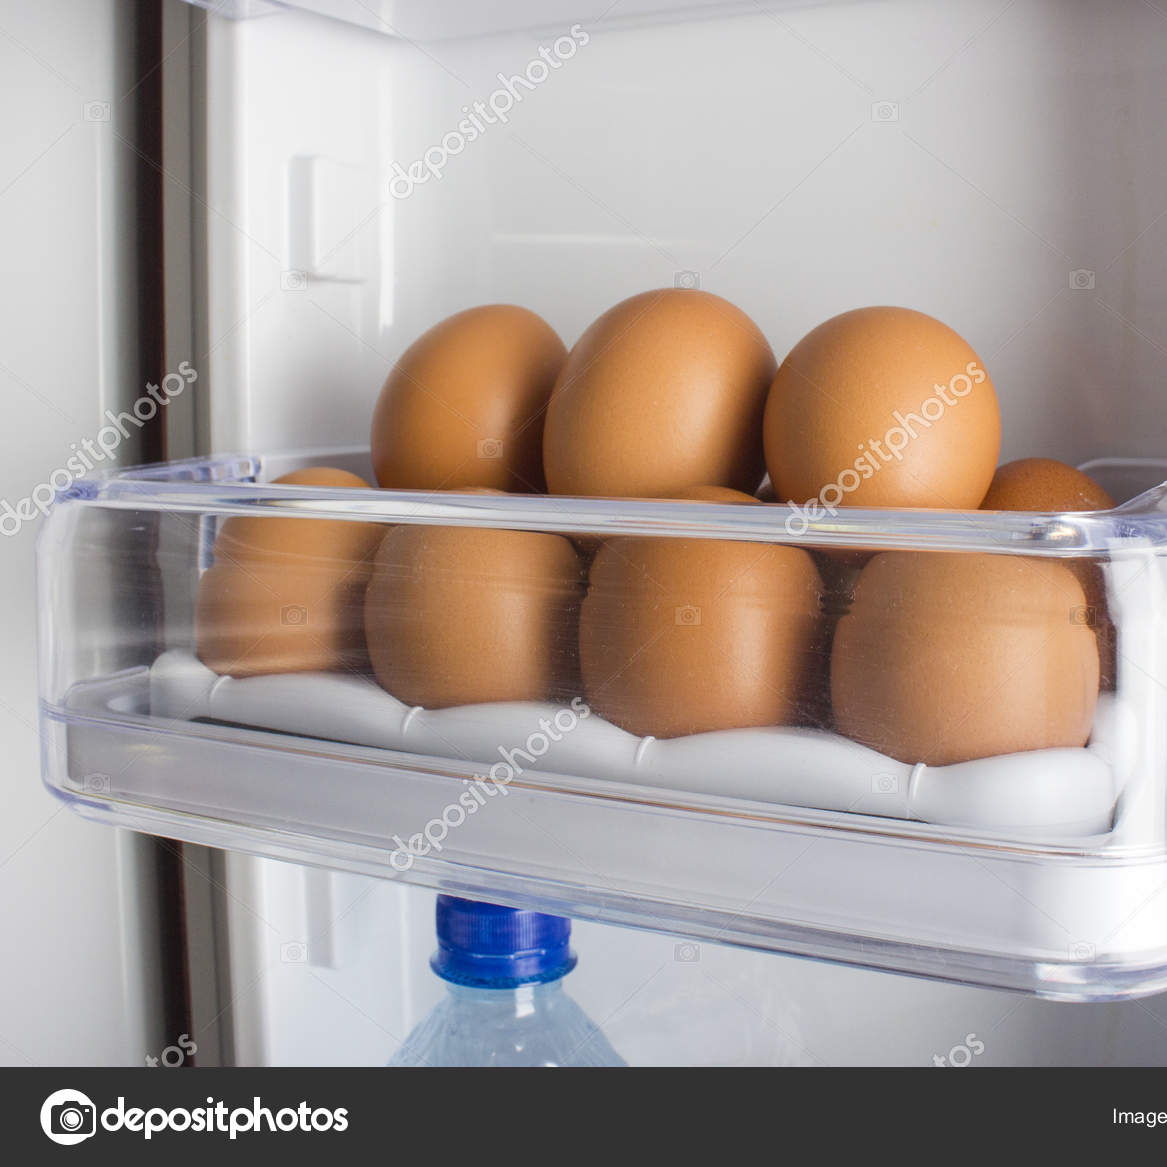egg: (194, 281, 1120, 762)
